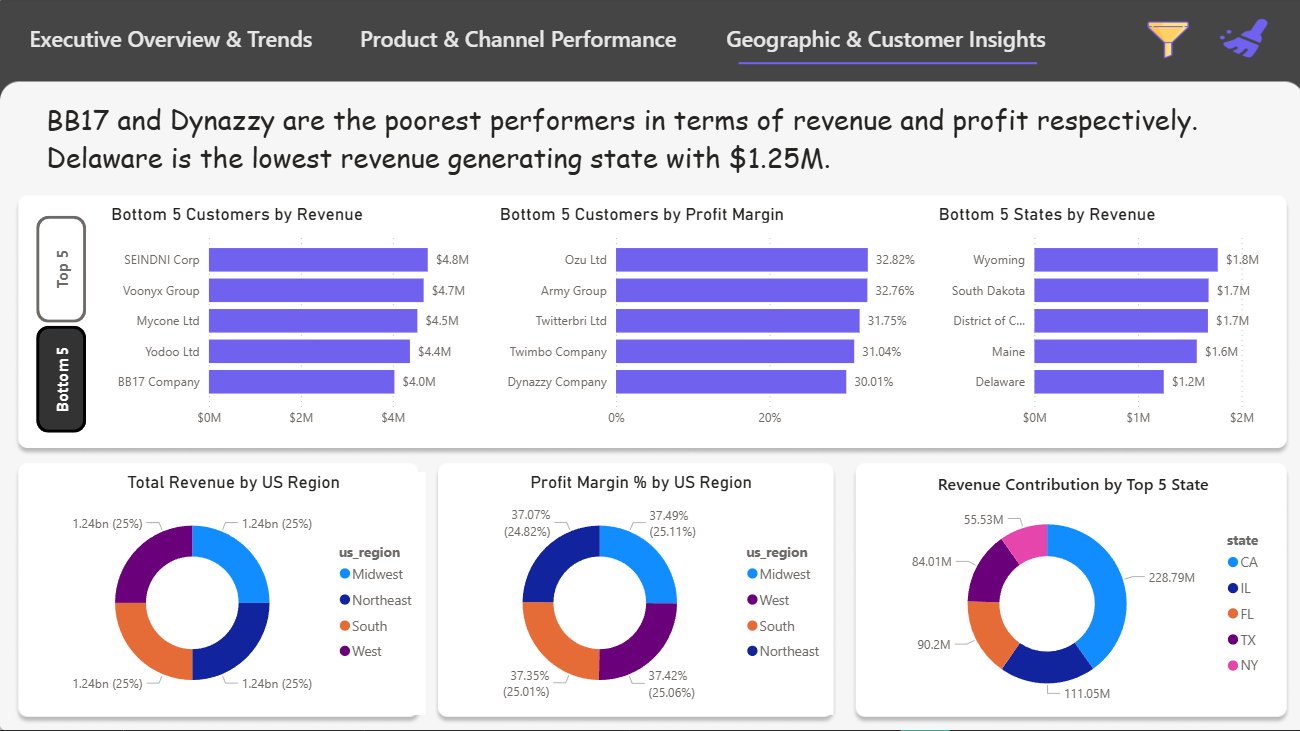

Layout of this report page (visuals, bound fields, positions):
{"tool":"powerbi","page":{"name":"Geographic & Customer Insights","canvas":[1280,720],"ordinal":2},"visuals":[{"type":"barChart","title":"Bottom 5 States by Revenue","fields":{"Category":["Sales_data.state_name"],"Y":["Measures_.Total Revenue"]},"box":[916.3,202.7,344.1,228.8],"z":0,"group":"g2"},{"type":"actionButton","box":[36.3,215,49,105],"z":0,"group":"g1"},{"type":"barChart","title":"Bottom 5 Customers by Profit Margin","fields":{"Category":["Sales_data.customer_name"],"Y":["Measures_.Profit Margin %"]},"box":[485.8,202.7,430.5,228.8],"z":1000,"group":"g2"},{"type":"actionButton","box":[36,323.3,49,105],"z":1000,"group":"g1"},{"type":"actionButton","box":[337.2,14.1,342.3,55.1],"z":2000},{"type":"barChart","title":"Bottom 5 Customers by Revenue","fields":{"Category":["Sales_data.customer_name"],"Y":["Measures_.Total Revenue"]},"box":[104.4,202.7,381.4,228.8],"z":2000,"group":"g2"},{"type":"actionButton","box":[9,14.1,317.9,55.1],"z":3000},{"type":"actionButton","box":[702.6,14.1,333.3,55.1],"z":4000},{"type":"group","id":"g1","title":"bottom 5 button","box":[36,215,49.3,213.3],"z":5000},{"type":"donutChart","title":"Revenue Contribution by Top 5 State ","fields":{"Category":["Sales_data.state"],"Y":["Sum(Sales_data.revenue)"]},"box":[846.9,465.7,413.8,237.7],"z":7000},{"type":"group","id":"g2","title":"buttom 5","box":[104.4,202.7,1155.9,228.8],"z":8000},{"type":"textbox","title":"Bottom Text","box":[40,96,1222,120],"z":10000},{"type":"actionButton","box":[1188,14,70,55],"z":12000},{"type":"actionButton","box":[1120,21,53,42],"z":13000},{"type":"donutChart","title":"Profit Margin % by US Region","fields":{"Y":["Measures_.Profit Margin %"],"Category":["Sales_data.us_region"]},"box":[440.5,466.3,377.9,238],"z":14001},{"type":"donutChart","title":"Total Revenue by US Region","fields":{"Category":["Sales_data.us_region"],"Y":["Sum(Customer Summary.Total Revenue)"]},"box":[40.5,466.3,377.9,238],"z":14002}]}

Visuals, with their boxes in screenshot pixels (x1, y1, x2, y2), scaled from the page's 1280x720 canvas onto the 1300x731 screenshot:
"Bottom 5 States by Revenue" barChart: Rect(931, 206, 1280, 438)
actionButton: Rect(37, 218, 87, 325)
"Bottom 5 Customers by Profit Margin" barChart: Rect(493, 206, 931, 438)
actionButton: Rect(37, 328, 86, 435)
actionButton: Rect(342, 14, 690, 70)
"Bottom 5 Customers by Revenue" barChart: Rect(106, 206, 493, 438)
actionButton: Rect(9, 14, 332, 70)
actionButton: Rect(714, 14, 1052, 70)
"bottom 5 button" group: Rect(37, 218, 87, 435)
"Revenue Contribution by Top 5 State " donutChart: Rect(860, 473, 1280, 714)
"buttom 5" group: Rect(106, 206, 1280, 438)
"Bottom Text" textbox: Rect(41, 97, 1282, 219)
actionButton: Rect(1207, 14, 1278, 70)
actionButton: Rect(1138, 21, 1191, 64)
"Profit Margin % by US Region" donutChart: Rect(447, 473, 831, 715)
"Total Revenue by US Region" donutChart: Rect(41, 473, 425, 715)
